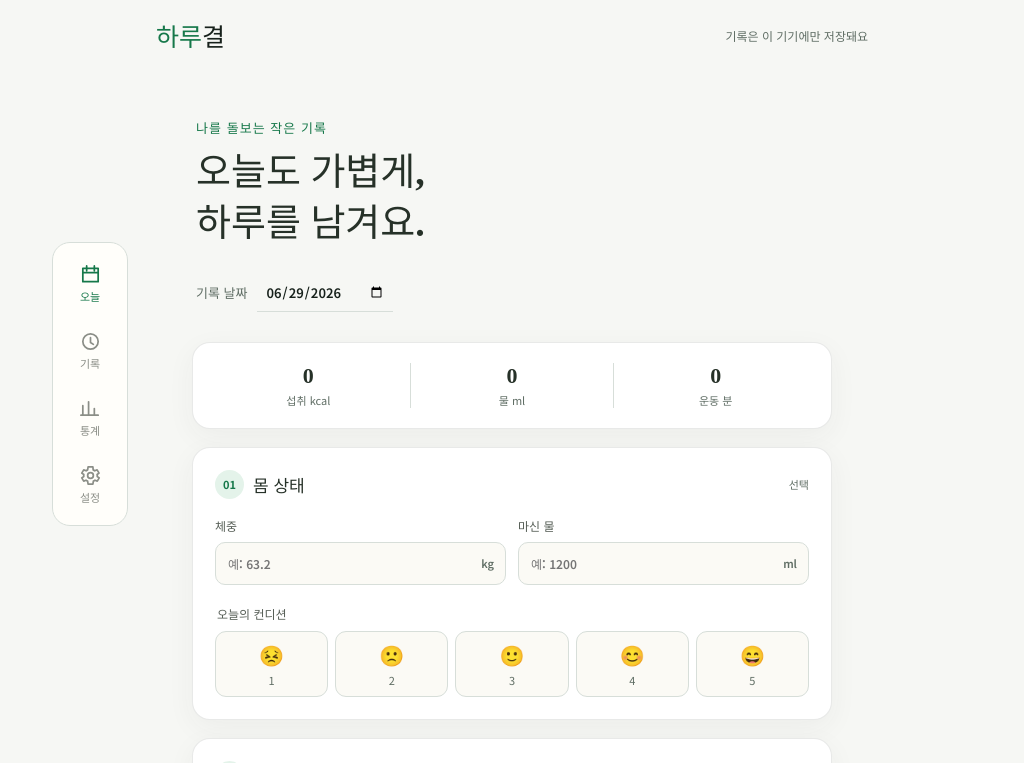
Test: App › loads the saved log when the selected date changes
Type "2026-06-01" into the date field labelled "기록 날짜".
click(326, 293); type("2026-06-01")  # box [258,274,394,312]
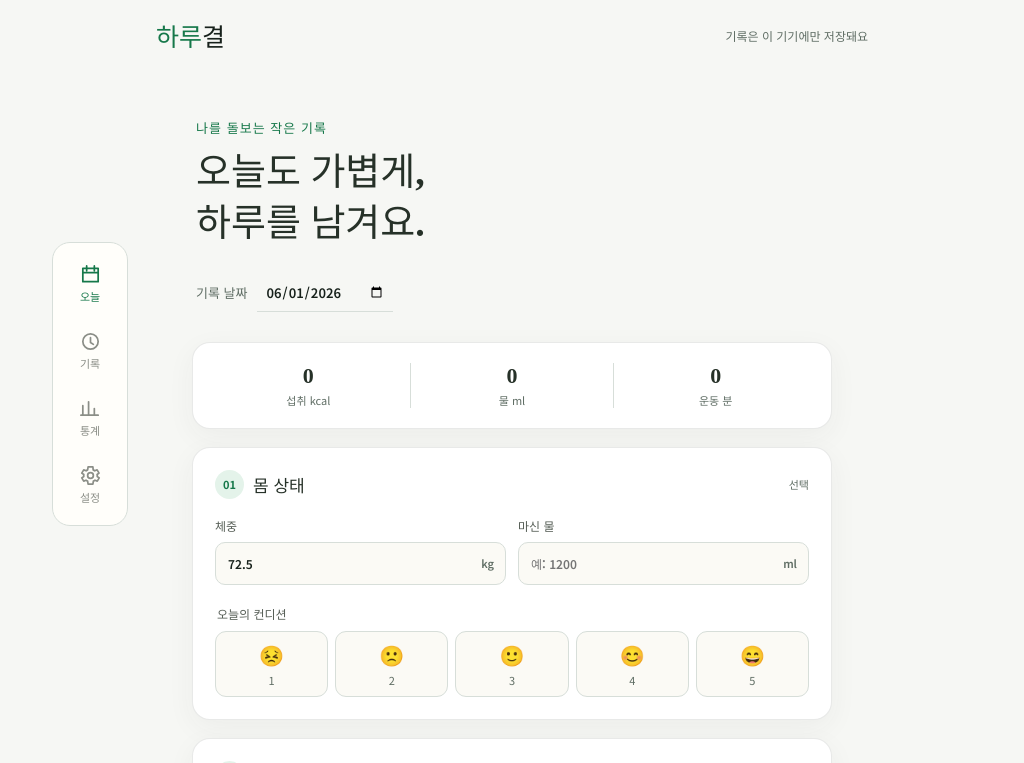
Check: the number field showing "72.5" is shown, box [215,542,506,585]
